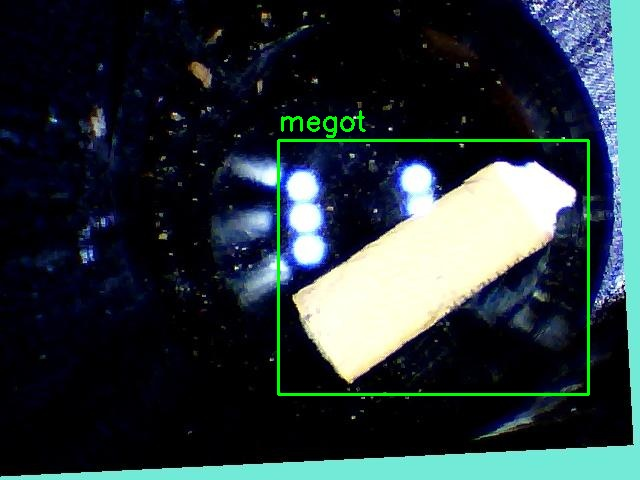megot: (278, 140, 588, 394)
